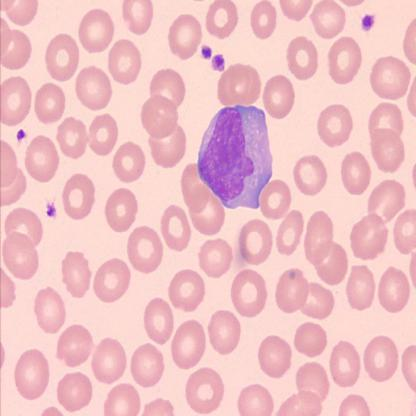Atypical lymphocyte: (196, 105, 272, 209)
